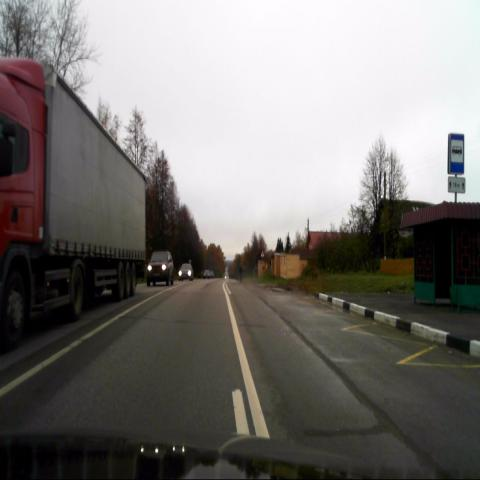5_16: (449, 135, 465, 174)
8_2_1: (448, 177, 466, 194)
